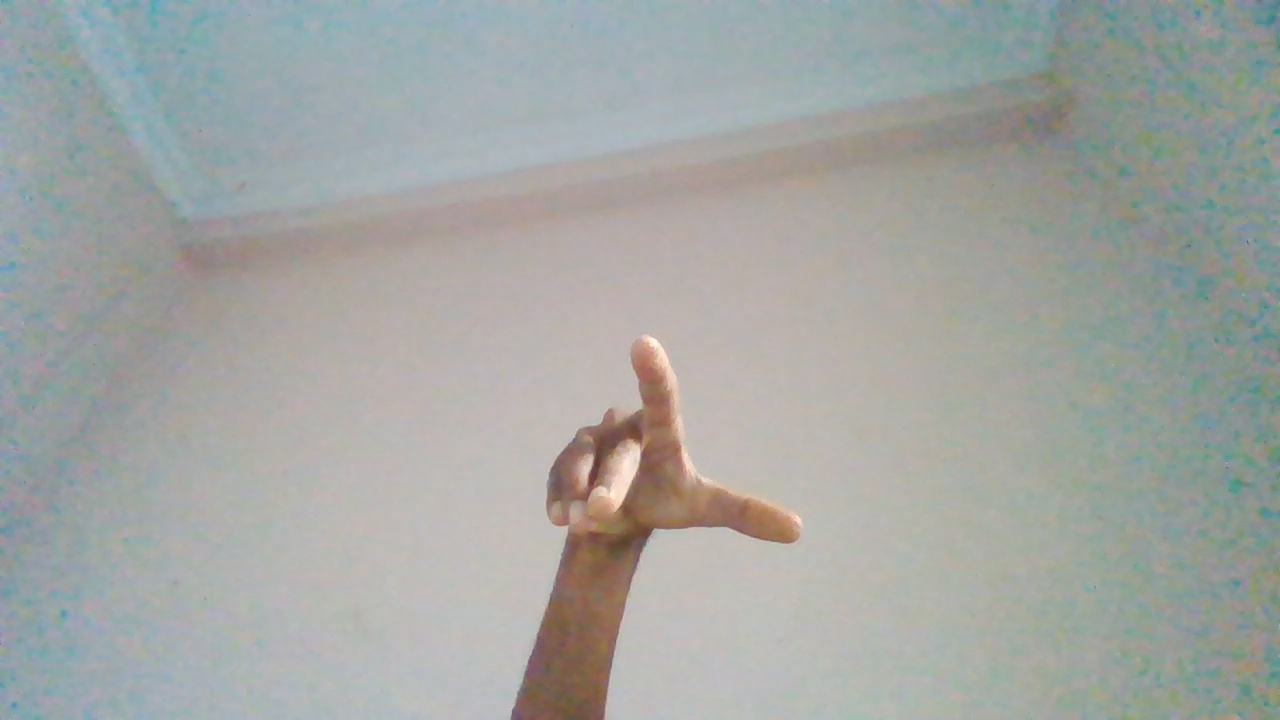ke: (543, 337, 806, 710)
